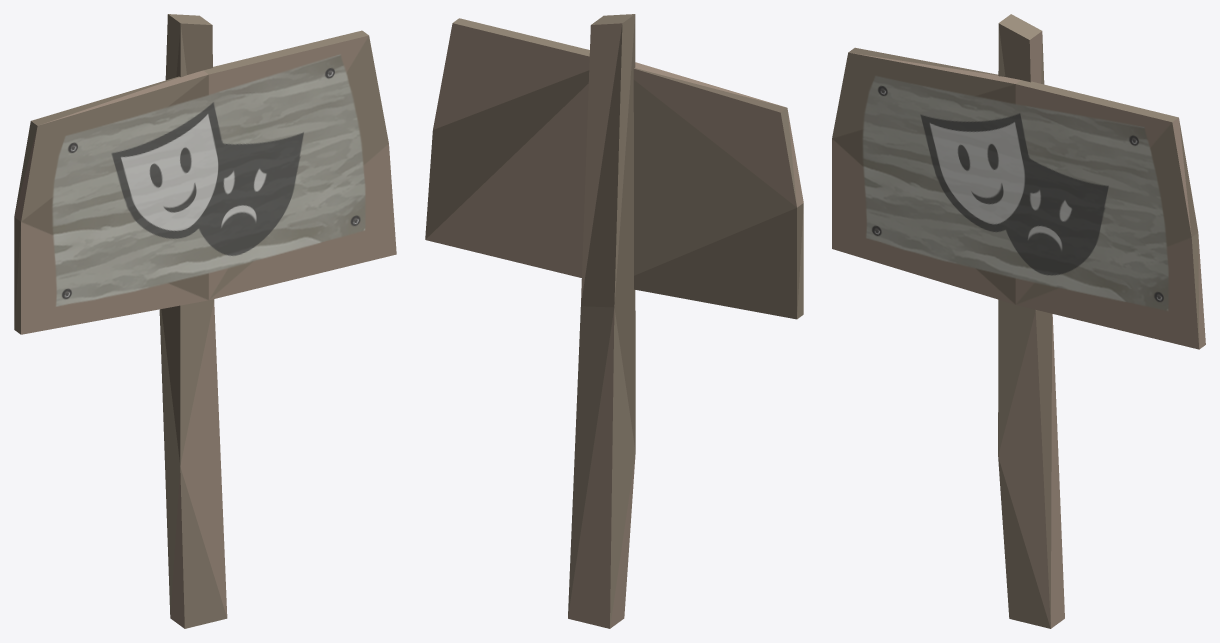
File: cartel_ejercicio_emociones.FBX
3 views of the same model, side by side, from view 1: azimuth 30°, elevation 25°; view 2: azimuth 150°, elevation 25°; view 3: azimuth 330°, elevation 25° (orthographic). The views are drawn at different scales.
Parts seen in each view (by area): view 1: Poste006; view 2: Poste006; view 3: Poste006.
Part boxes in pixels (x1,y1,x2,y2): Poste006: [14, 14, 396, 628]; Poste006: [425, 14, 803, 628]; Poste006: [832, 14, 1205, 628].
Bounding box in the file's own units: 87.02 × 135 × 10.74.
Materials: 1 (1 with a texture image).
